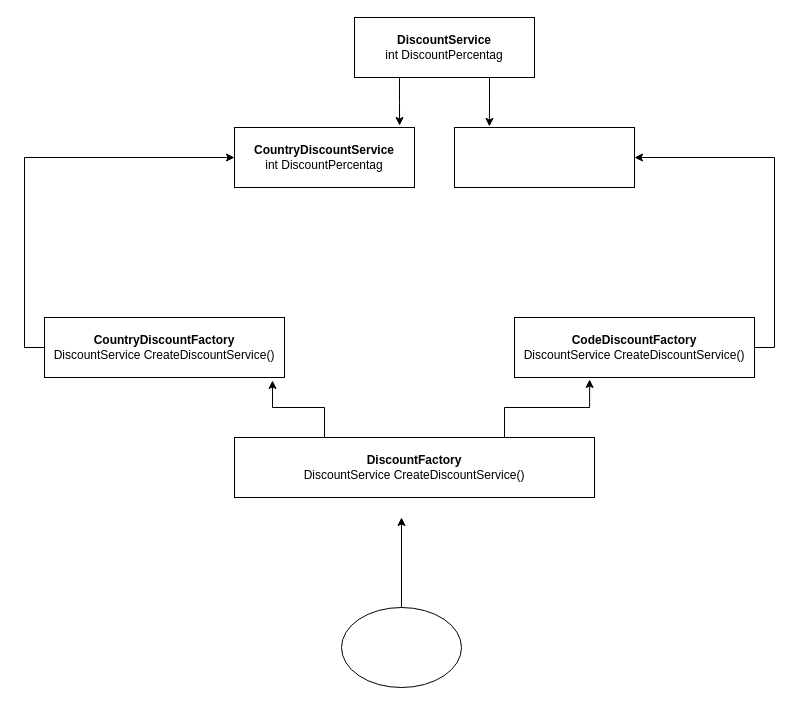
The diagram is 800 pixels wide and 705 high, and some of its shapes have lost their labels. The centre of each missing label's shape, as x and y in pixels:
"Client" goes at point (401, 647).
"CodeDiscountService int DiscountPercentag" goes at point (544, 157).
